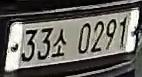0: (76, 21, 91, 56)
1: (118, 15, 127, 48)
2: (91, 20, 105, 53)
3: (37, 26, 52, 60), (23, 28, 37, 62)
9: (105, 17, 117, 52)
소: (52, 28, 67, 58)
